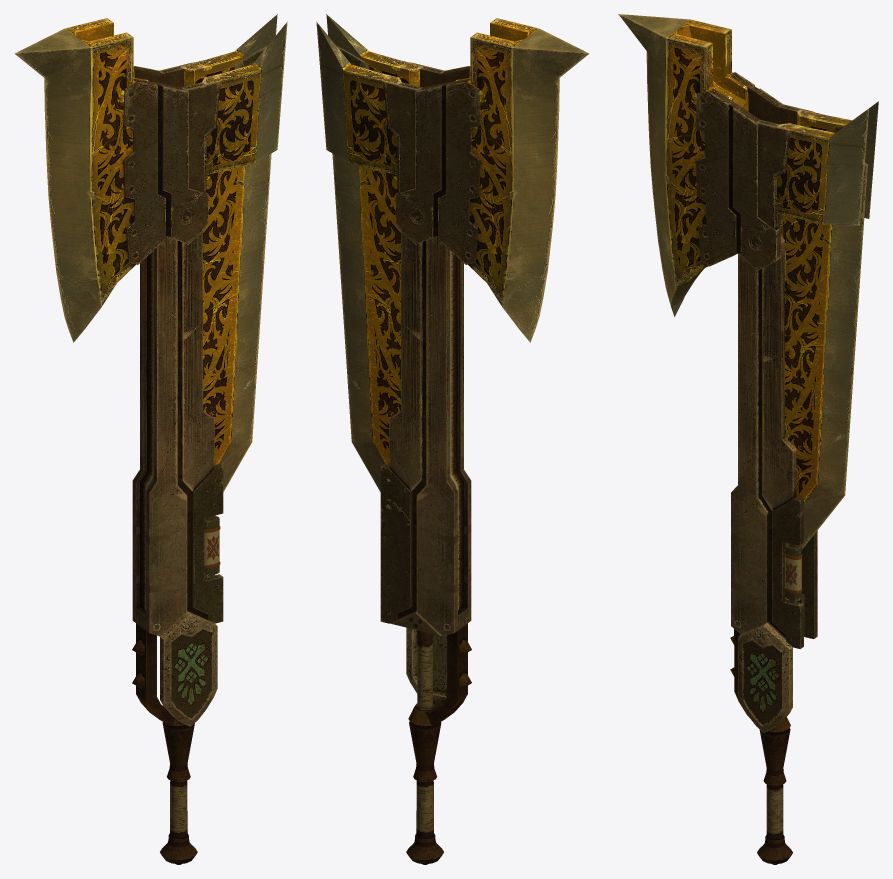
The model's file is bs_saxe005.obj.
3 views of the same model, side by side, from view 1: azimuth 30°, elevation 25°; view 2: azimuth 150°, elevation 25°; view 3: azimuth 330°, elevation 25° (orthographic). The views are drawn at different scales.
Parts seen in each view (by area): view 1: bs_saxe005_000_LOD_1, bs_saxe005_004_LOD_1, bs_saxe005_003_LOD_1, bs_saxe005_002_LOD_1, bs_saxe005_001_LOD_1; view 2: bs_saxe005_004_LOD_1, bs_saxe005_000_LOD_1, bs_saxe005_003_LOD_1, bs_saxe005_002_LOD_1, bs_saxe005_001_LOD_1; view 3: bs_saxe005_004_LOD_1, bs_saxe005_000_LOD_1, bs_saxe005_003_LOD_1, bs_saxe005_002_LOD_1, bs_saxe005_001_LOD_1.
Boxes of the visible parts, left/top/right/bottom form: bs_saxe005_000_LOD_1: left=132, top=231, right=223, bottom=726; bs_saxe005_004_LOD_1: left=14, top=14, right=287, bottom=342; bs_saxe005_003_LOD_1: left=203, top=46, right=271, bottom=491; bs_saxe005_002_LOD_1: left=123, top=66, right=208, bottom=264; bs_saxe005_001_LOD_1: left=160, top=722, right=197, bottom=864; bs_saxe005_004_LOD_1: left=316, top=14, right=589, bottom=342; bs_saxe005_000_LOD_1: left=380, top=231, right=471, bottom=725; bs_saxe005_003_LOD_1: left=332, top=46, right=400, bottom=491; bs_saxe005_002_LOD_1: left=395, top=66, right=480, bottom=264; bs_saxe005_001_LOD_1: left=406, top=630, right=443, bottom=864; bs_saxe005_004_LOD_1: left=618, top=14, right=878, bottom=316; bs_saxe005_000_LOD_1: left=730, top=233, right=817, bottom=732; bs_saxe005_003_LOD_1: left=780, top=125, right=867, bottom=549; bs_saxe005_002_LOD_1: left=695, top=72, right=782, bottom=270; bs_saxe005_001_LOD_1: left=757, top=728, right=792, bottom=864.
Size of the model in its own units: 97.23 by 295 by 17.87.
